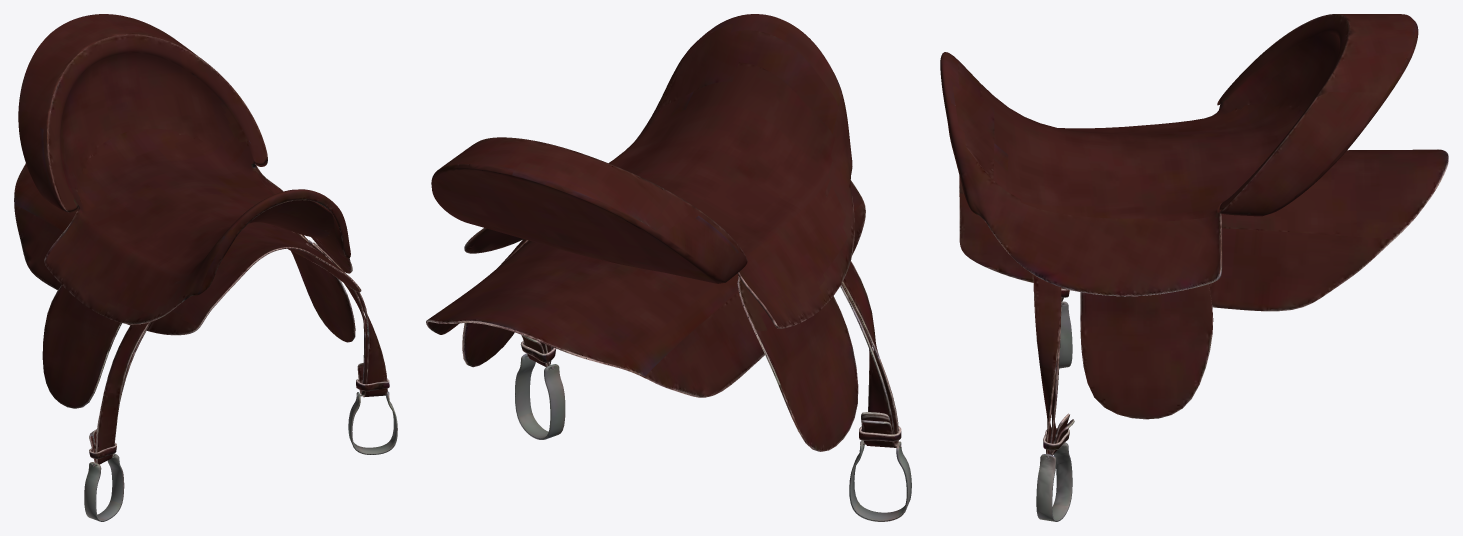
File: gear-saddle.glb
3 renders of one model, left to right at view 1: azimuth 30°, elevation 25°; view 2: azimuth 150°, elevation 25°; view 3: azimuth 270°, elevation 25°, orthographic. The views are drawn at different scales.
Parts seen in each view (by area): view 1: saddle.001; view 2: saddle.001; view 3: saddle.001.
Boxes of the visible parts, x1,y1,x2,y2 form: saddle.001: (14, 14, 397, 521); saddle.001: (426, 14, 911, 521); saddle.001: (940, 14, 1448, 521).
Size of the model in its own units: 1.96 by 2.14 by 2.39.
1 material, 1 textured.
